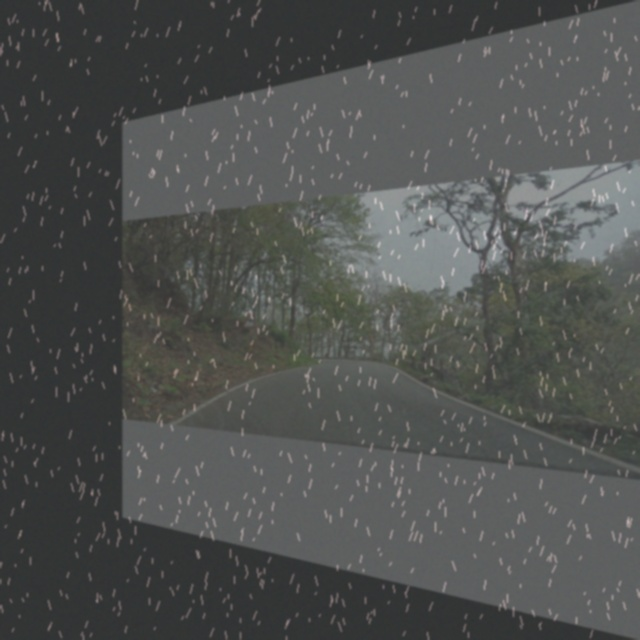Left_Hand_Curve: (242, 309, 258, 332)
